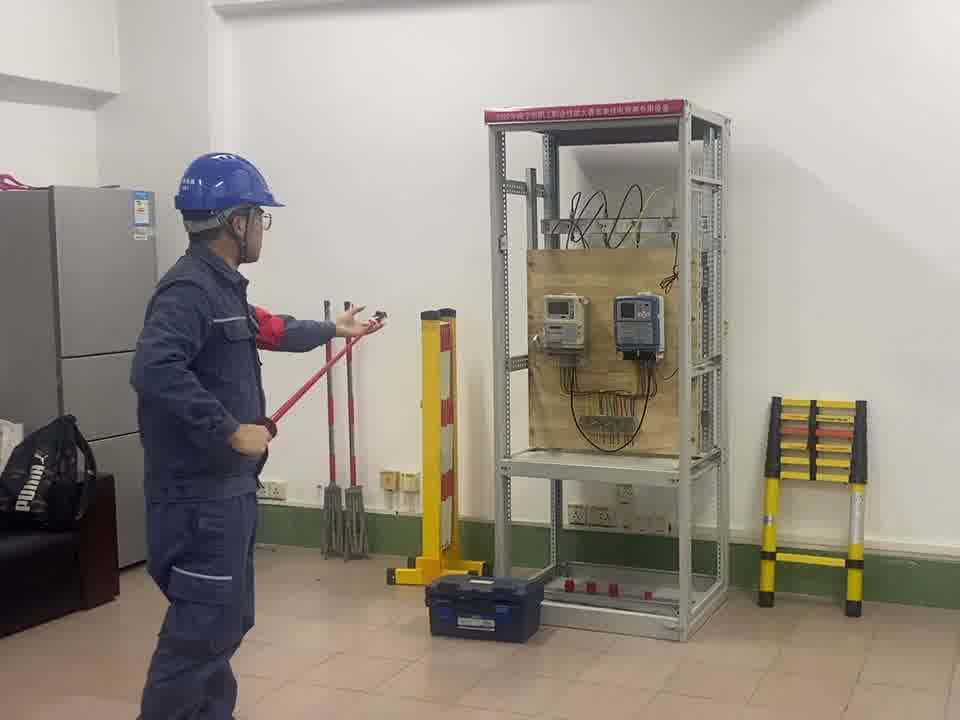badge: (250, 302, 289, 353)
downsuit: (133, 505, 264, 720)
halt: (173, 151, 286, 265)
hand: (336, 300, 391, 340), (227, 420, 273, 461)
inear: (206, 207, 267, 260)
person: (125, 148, 339, 720)
testrod: (249, 308, 390, 442)
upsuit: (129, 248, 337, 501)
